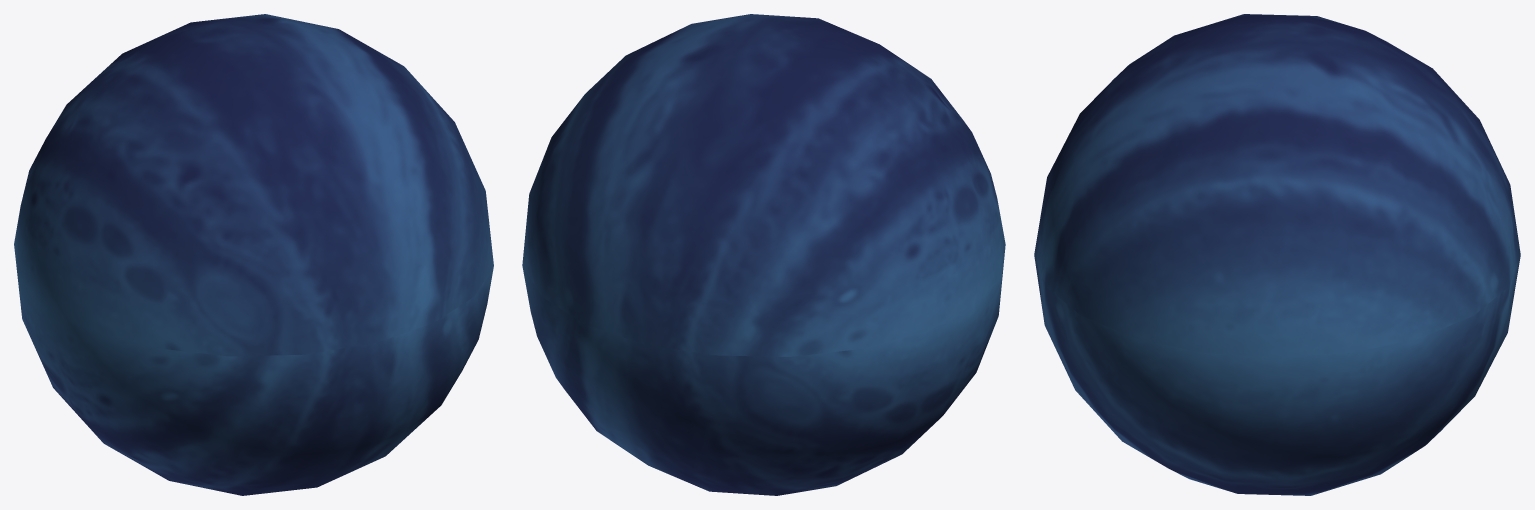
File: PlanetObstacle.fbx
The picture shows the model from 3 angles, left to right: view 1: azimuth 30°, elevation 25°; view 2: azimuth 150°, elevation 25°; view 3: azimuth 270°, elevation 25°; orthographic projection.
Parts seen in each view (by area): view 1: Icosphere.005; view 2: Icosphere.005; view 3: Icosphere.005.
Boxes of the visible parts, x1,y1,x2,y2 form: Icosphere.005: (14, 14, 493, 495); Icosphere.005: (522, 14, 1005, 495); Icosphere.005: (1034, 14, 1520, 495).
Bounding box in the file's own units: 118 × 118 × 118.
